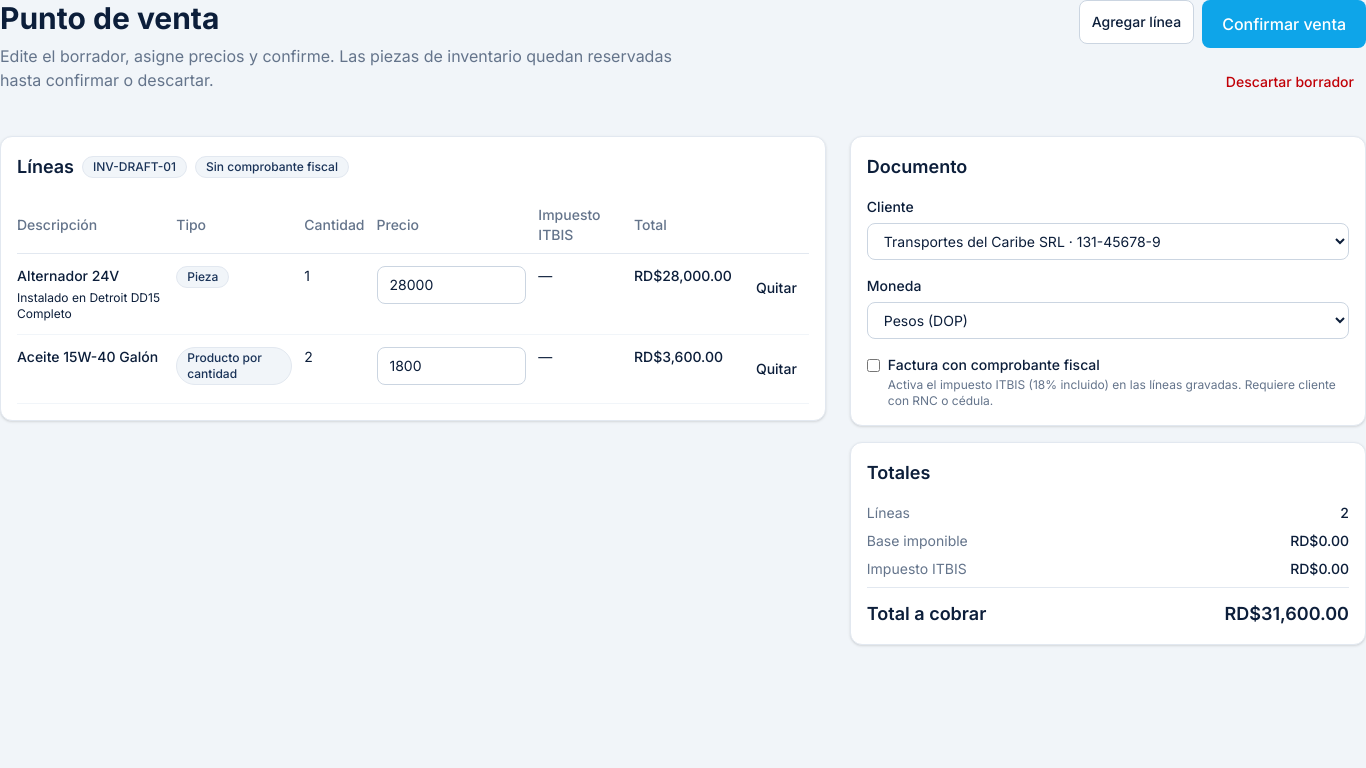
Test case: PosPage › confirms the seed draft and shows the assigned FAC number
The width and height of the screenshot is (1366, 768).
Check: the text "Alternador 24V" is shown, box [17, 267, 119, 284]
Click the button "Confirmar venta": point(1284, 24) [1202, 0, 1365, 48]
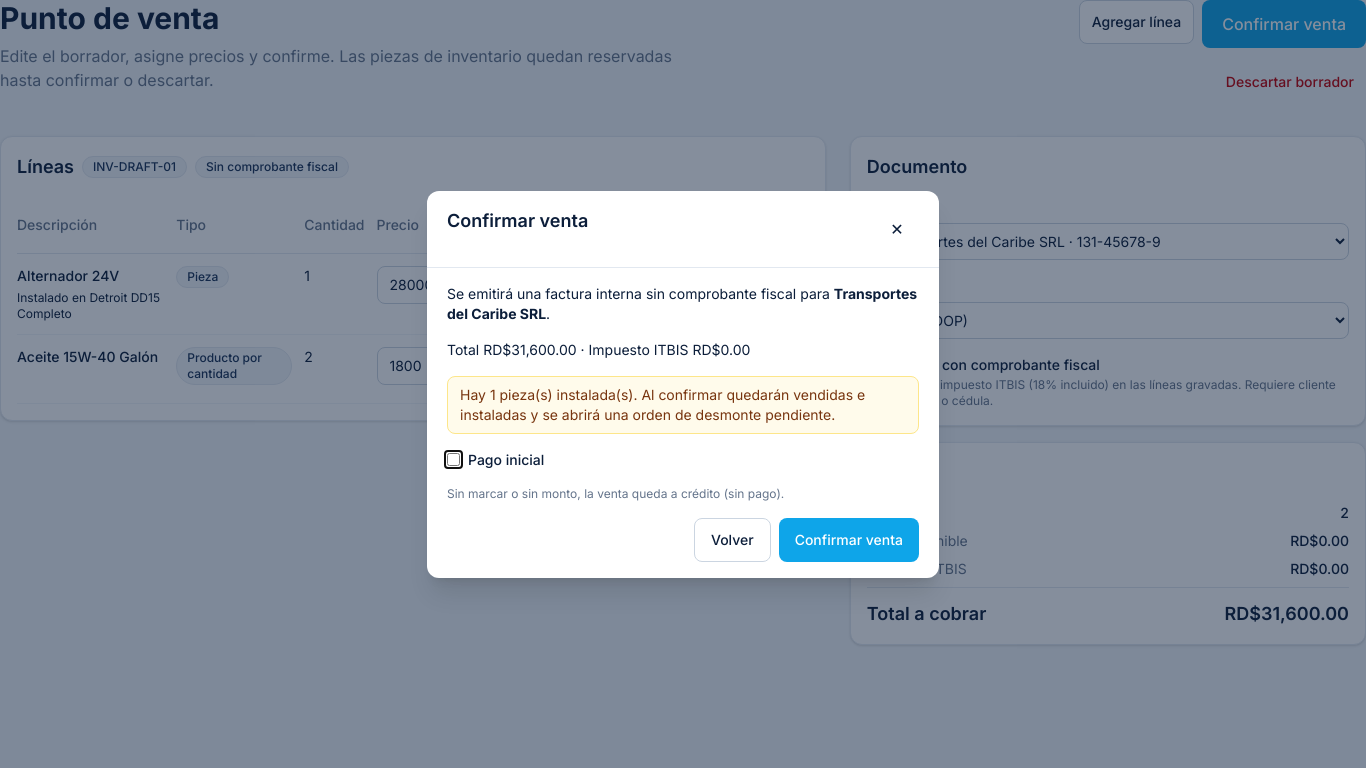
Click the button "Confirmar venta": point(849, 540) [779, 518, 919, 562]
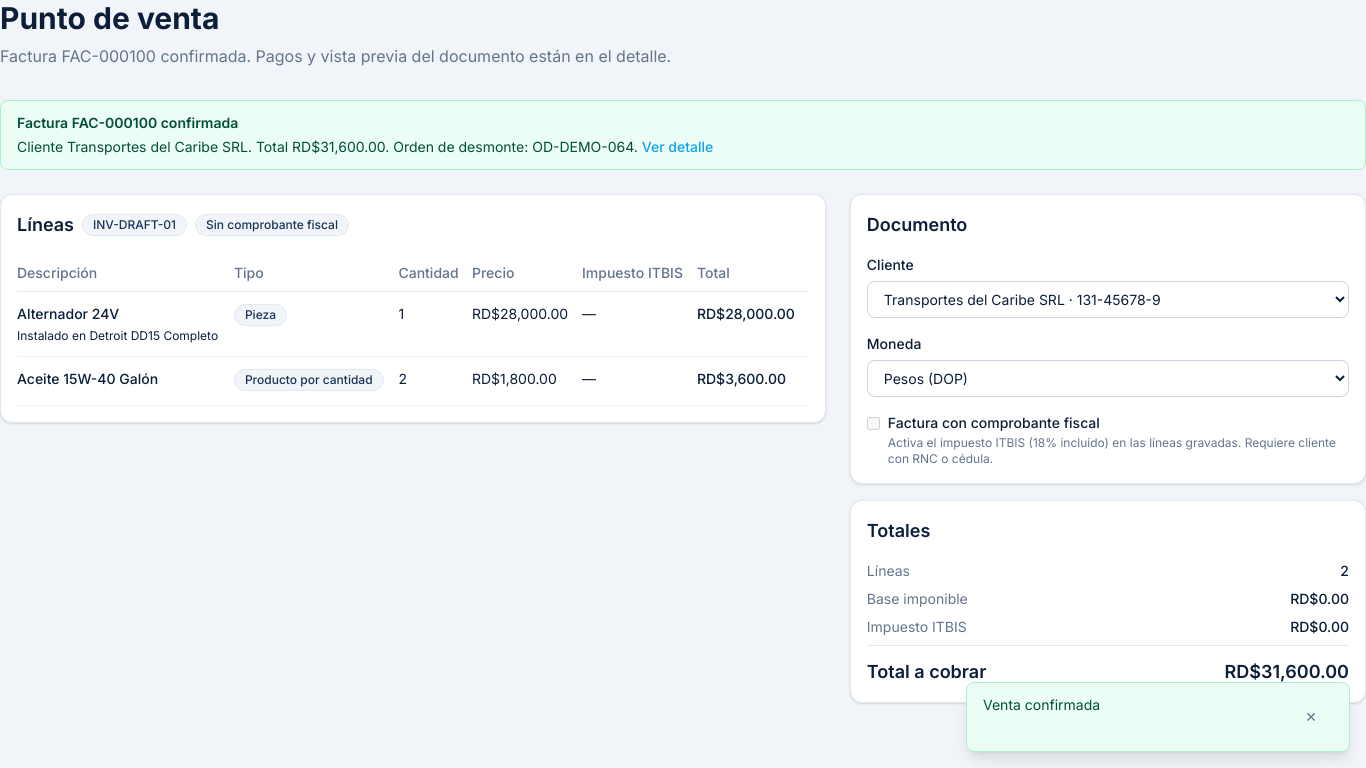
Check: the text "Venta confirmada" is shown, box [983, 696, 1100, 713]
Check: the text "Orden de desmonte: OD-DEMO-064" is shown, box [389, 138, 638, 155]
